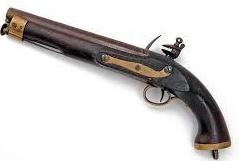gun: (1, 1, 239, 161)
